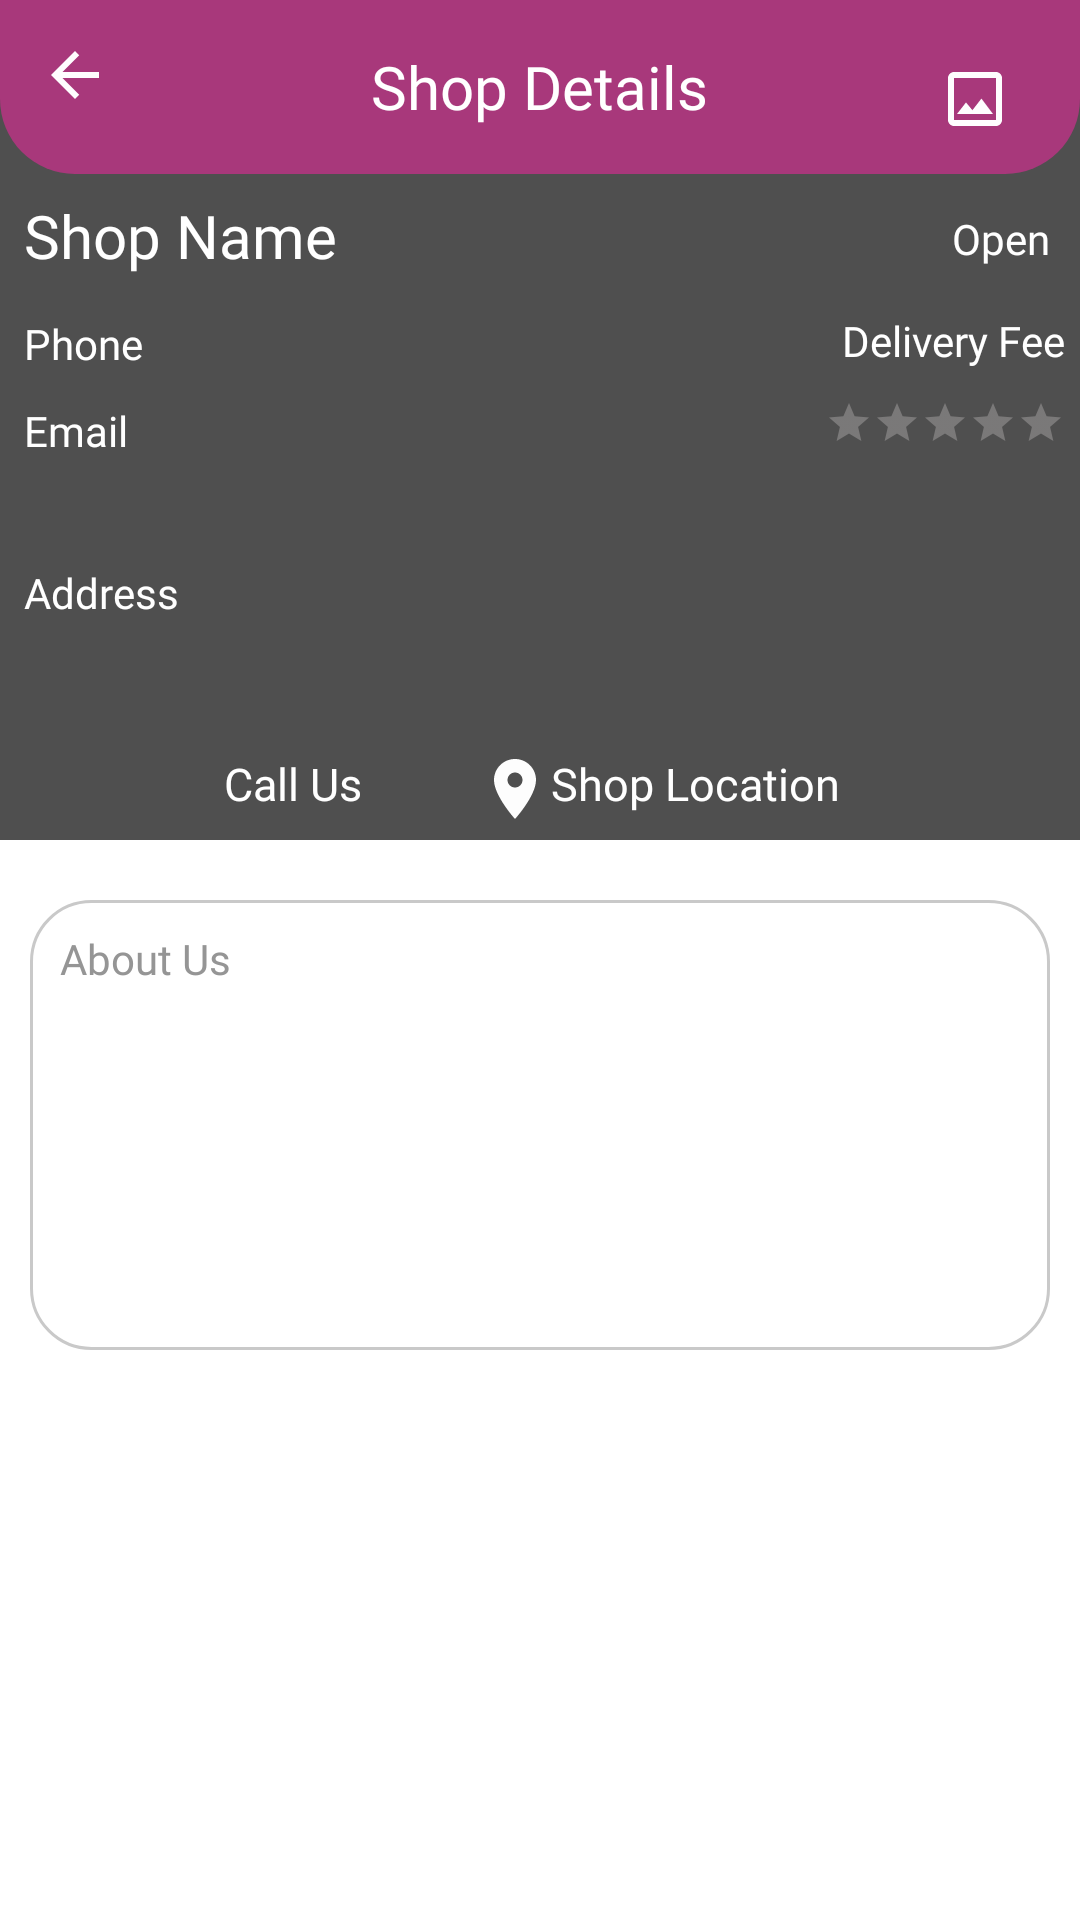

Screen size 1080*1920. Icon name, then its center in pixels as [x,y]:
back: [75,75]
